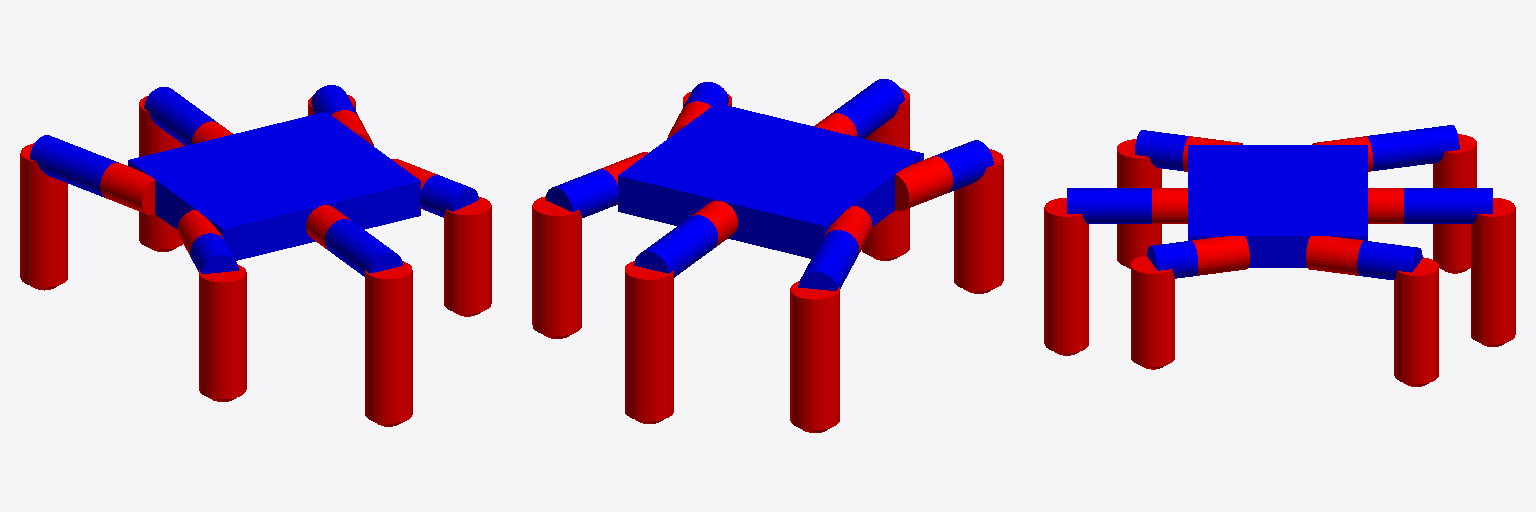
--- What the picture shows (computed from the rendered views, not written in the file) ---
Views: 3 orthographic renders of the robot side by side, from view 1: azimuth 30°, elevation 25°; view 2: azimuth 150°, elevation 25°; view 3: azimuth 270°, elevation 25°.
Model pexod with 19 links and 18 joints (18 revolute), rooted at base_link, posed all joints at 0.
Visible links, largest first — view 1: base_link, leg_4_3, leg_5_3, leg_0_3, leg_3_3, leg_0_2, leg_4_2, leg_1_3, leg_1_2, leg_0_1, leg_3_2, leg_5_2 (+5 smaller); view 2: base_link, leg_1_3, leg_0_3, leg_2_3, leg_5_3, leg_4_3, leg_1_2, leg_0_2, leg_2_2, leg_5_1, leg_4_2, leg_5_2 (+5 smaller); view 3: base_link, leg_4_3, leg_1_3, leg_2_3, leg_3_3, leg_0_3, leg_5_3, leg_1_2, leg_0_2, leg_4_2, leg_2_2, leg_3_1 (+5 smaller).
Boxes of the visible links, <box> form: base_link: <box>128,112,420,260</box>; leg_4_3: <box>365,261,412,426</box>; leg_5_3: <box>199,265,246,401</box>; leg_0_3: <box>20,143,67,290</box>; leg_3_3: <box>444,197,491,316</box>; leg_0_2: <box>30,135,118,197</box>; leg_4_2: <box>325,219,402,276</box>; leg_1_3: <box>139,96,184,251</box>; leg_1_2: <box>144,87,217,145</box>; leg_0_1: <box>100,163,154,214</box>; leg_3_2: <box>420,175,478,217</box>; leg_5_2: <box>190,233,238,273</box>; base_link: <box>618,103,923,258</box>; leg_1_3: <box>625,261,673,423</box>; leg_0_3: <box>790,281,839,432</box>; leg_2_3: <box>532,196,581,338</box>; leg_5_3: <box>954,149,1003,293</box>; leg_4_3: <box>862,88,909,260</box>; leg_1_2: <box>634,215,717,277</box>; leg_0_2: <box>798,230,858,290</box>; leg_2_2: <box>546,169,618,217</box>; leg_5_1: <box>895,156,952,210</box>; leg_4_2: <box>831,79,904,138</box>; leg_5_2: <box>932,140,993,192</box>; base_link: <box>1188,145,1367,267</box>; leg_4_3: <box>1044,198,1088,355</box>; leg_1_3: <box>1471,198,1515,346</box>; leg_2_3: <box>1394,257,1438,386</box>; leg_3_3: <box>1131,256,1174,369</box>; leg_0_3: <box>1433,134,1476,273</box>; leg_5_3: <box>1117,139,1161,268</box>; leg_1_2: <box>1404,188,1492,223</box>; leg_0_2: <box>1367,125,1459,170</box>; leg_4_2: <box>1067,188,1151,223</box>; leg_2_2: <box>1357,241,1422,279</box>; leg_3_1: <box>1192,236,1249,275</box>.
Bounding box of the posed robot: 0.374 × 0.5248 × 0.2003 m (x, y, z).
Geometry: primitives only (box / cylinder / sphere), no mesh files.

robot.urdf — pexod:
<?xml version="1.0" ?>
<!-- =================================================================================== -->
<!-- |    This document was autogenerated by xacro from pexod.xacro                    | -->
<!-- |    EDITING THIS FILE BY HAND IS NOT RECOMMENDED                                 | -->
<!-- =================================================================================== -->
<robot name="pexod" xmlns:xacro="http://www.ros.org/wiki/xacro">
  <!-- <xacro:include filename="$(find pexod_description)/urdf/pexod_control.xacro" /> -->
  <!-- MATERIALS -->
  <material name="Blue">
    <color rgba="0 0 1 1"/>
  </material>
  <material name="Red">
    <color rgba="1 0 0 1"/>
  </material>
  <material name="Green">
    <color rgba="0 1 0 1"/>
  </material>
  <material name="Yellow">
    <color rgba="1 1 0 1"/>
  </material>
  <material name="LightGrey">
    <color rgba="0.6 0.6 0.6 1.0"/>
  </material>
  <!-- END OF MATERIALS -->
  <!-- XACRO MACROS FOR VISUALS AND COLLISIONS -->
  <!-- END OF XACRO MACROS -->
  <!-- TORSO -->
  <link name="base_link">
    <visual>
      <origin rpy="0 0 0" xyz="0 0 0"/>
      <geometry>
        <box size="0.24 0.2 0.04"/>
      </geometry>
      <material name="Blue"/>
    </visual>
    <collision>
      <origin rpy="0 0 0" xyz="0 0 0"/>
      <geometry>
        <box size="0.24 0.2 0.04"/>
      </geometry>
    </collision>
    <inertial>
      <!-- CENTER OF MASS -->
      <origin rpy="0 0 0" xyz="0 0 0"/>
      <mass value="1.031"/>
      <!-- box inertia: 1/12*m(y^2+z^2), ... -->
      <inertia ixx="0.00357413333333" ixy="0" ixz="0" iyy="0.00508626666667" iyz="0" izz="0.00838546666667"/>
    </inertial>
  </link>
  <!-- XACRO MACRO FOR LEGS LINKS/JOINTS -->
  <!-- END OF LEG LINKS/JOINTS -->
  <joint name="body_leg_2" type="revolute">
    <parent link="base_link"/>
    <child link="leg_2_1"/>
    <limit effort="30.0" lower="-1.57079632679" upper="1.57079632679" velocity="7.0"/>
    <origin rpy="0 0 -0.3" xyz="0.11 0.04 0"/>
    <!-- <xacro:if value="${index == 5 or index == 4 or index == 3}">
                <axis xyz="0 0 1"/>
            </xacro:if>
            <xacro:if value="${index == 2 or index == 1 or index == 0}"> -->
    <axis xyz="0 0 1"/>
    <!-- </xacro:if> -->
    <dynamics damping="0.0"/>
  </joint>
  <link name="leg_2_1">
    <visual>
      <origin rpy="1.57079632679 0 0" xyz="0.01 0.03 0"/>
      <geometry>
        <cylinder length="0.06" radius="0.02"/>
      </geometry>
      <material name="Red"/>
    </visual>
    <collision>
      <origin rpy="1.57079632679 0 0" xyz="0.01 0.03 0"/>
      <geometry>
        <box size="0.02 0.02 0.06"/>
      </geometry>
    </collision>
    <inertial>
      <!-- CENTER OF MASS -->
      <origin rpy="1.57079632679 0 0" xyz="0.01 0.03 0"/>
      <mass value="0.02"/>
      <!-- box inertia: 1/12*m(y^2+z^2), ... -->
      <inertia ixx="6.66666666667e-06" ixy="0" ixz="0" iyy="6.66666666667e-06" iyz="0" izz="1.33333333333e-06"/>
    </inertial>
  </link>
  <joint name="leg_2_1_2" type="revolute">
    <parent link="leg_2_1"/>
    <child link="leg_2_2"/>
    <limit effort="30.0" lower="-0.78539816339" upper="0.78539816339" velocity="7.0"/>
    <origin rpy="0 0 0" xyz="0 0.06 0"/>
    <axis xyz="1 0 0"/>
    <dynamics damping="0.0"/>
  </joint>
  <link name="leg_2_2">
    <visual>
      <origin rpy="1.57079632679 0 0" xyz="0.01 0.0319367016303 0"/>
      <geometry>
        <cylinder length="0.0638734032605" radius="0.02"/>
      </geometry>
      <material name="Blue"/>
    </visual>
    <collision>
      <origin rpy="1.57079632679 0 0" xyz="0.01 0.0319367016303 0"/>
      <geometry>
        <box size="0.02 0.02 0.0638734032605"/>
      </geometry>
    </collision>
    <inertial>
      <!-- CENTER OF MASS -->
      <origin rpy="1.57079632679 0 0" xyz="0.01 0.0319367016303 0"/>
      <mass value="0.184"/>
      <!-- box inertia: 1/12*m(y^2+z^2), ... -->
      <inertia ixx="6.86904452092e-05" ixy="0" ixz="0" iyy="6.86904452092e-05" iyz="0" izz="1.22666666667e-05"/>
    </inertial>
  </link>
  <joint name="leg_2_2_3" type="revolute">
    <parent link="leg_2_2"/>
    <child link="leg_2_3"/>
    <limit effort="30.0" lower="-0.78539816339" upper="0.78539816339" velocity="7.0"/>
    <origin rpy="-1.57079632679 0 0" xyz="0 0.0638734032605 0"/>
    <axis xyz="-1 0 0"/>
    <dynamics damping="0.0"/>
  </joint>
  <link name="leg_2_3">
    <visual>
      <origin rpy="1.57079632679 0 0" xyz="0.0125 0.066725228067 0"/>
      <geometry>
        <cylinder length="0.133450456134" radius="0.025"/>
      </geometry>
      <material name="Red"/>
    </visual>
    <visual>
      <origin rpy="1.57079632679 0 0" xyz="0.0125 0.120950456134 0"/>
      <geometry>
        <sphere radius="0.025"/>
      </geometry>
      <material name="Red"/>
    </visual>
    <collision>
      <origin rpy="1.57079632679 0 0" xyz="0.0125 0.066725228067 0"/>
      <geometry>
        <box size="0.025 0.025 0.133450456134"/>
      </geometry>
    </collision>
    <collision>
      <origin rpy="1.57079632679 0 0" xyz="0.0125 0.120950456134 0"/>
      <geometry>
        <sphere radius="0.025"/>
      </geometry>
      <material name="Red"/>
    </collision>
    <inertial>
      <!-- CENTER OF MASS -->
      <origin rpy="1.57079632679 0 0" xyz="0.0125 0.066725228067 0"/>
      <mass value="0.04"/>
      <!-- box inertia: 1/12*m(y^2+z^2), ... -->
      <inertia ixx="6.14467474746e-05" ixy="0" ixz="0" iyy="6.14467474746e-05" iyz="0" izz="4.16666666667e-06"/>
    </inertial>
  </link>
  <joint name="body_leg_3" type="revolute">
    <parent link="base_link"/>
    <child link="leg_3_1"/>
    <limit effort="30.0" lower="-1.57079632679" upper="1.57079632679" velocity="7.0"/>
    <origin rpy="0 0 0.3" xyz="0.11 -0.04 0"/>
    <!-- <xacro:if value="${index == 5 or index == 4 or index == 3}">
                <axis xyz="0 0 1"/>
            </xacro:if>
            <xacro:if value="${index == 2 or index == 1 or index == 0}"> -->
    <axis xyz="0 0 1"/>
    <!-- </xacro:if> -->
    <dynamics damping="0.0"/>
  </joint>
  <link name="leg_3_1">
    <visual>
      <origin rpy="1.57079632679 0 0" xyz="0.01 -0.03 0"/>
      <geometry>
        <cylinder length="0.06" radius="0.02"/>
      </geometry>
      <material name="Red"/>
    </visual>
    <collision>
      <origin rpy="1.57079632679 0 0" xyz="0.01 -0.03 0"/>
      <geometry>
        <box size="0.02 0.02 0.06"/>
      </geometry>
    </collision>
    <inertial>
      <!-- CENTER OF MASS -->
      <origin rpy="1.57079632679 0 0" xyz="0.01 -0.03 0"/>
      <mass value="0.02"/>
      <!-- box inertia: 1/12*m(y^2+z^2), ... -->
      <inertia ixx="6.66666666667e-06" ixy="0" ixz="0" iyy="6.66666666667e-06" iyz="0" izz="1.33333333333e-06"/>
    </inertial>
  </link>
  <joint name="leg_3_1_2" type="revolute">
    <parent link="leg_3_1"/>
    <child link="leg_3_2"/>
    <limit effort="30.0" lower="-0.78539816339" upper="0.78539816339" velocity="7.0"/>
    <origin rpy="0 0 0" xyz="0 -0.06 0"/>
    <axis xyz="-1 0 0"/>
    <dynamics damping="0.0"/>
  </joint>
  <link name="leg_3_2">
    <visual>
      <origin rpy="1.57079632679 0 0" xyz="0.01 -0.0237564530246 0"/>
      <geometry>
        <cylinder length="0.0475129060491" radius="0.02"/>
      </geometry>
      <material name="Blue"/>
    </visual>
    <collision>
      <origin rpy="1.57079632679 0 0" xyz="0.01 -0.0237564530246 0"/>
      <geometry>
        <box size="0.02 0.02 0.0475129060491"/>
      </geometry>
    </collision>
    <inertial>
      <!-- CENTER OF MASS -->
      <origin rpy="1.57079632679 0 0" xyz="0.01 -0.0237564530246 0"/>
      <mass value="0.184"/>
      <!-- box inertia: 1/12*m(y^2+z^2), ... -->
      <inertia ixx="4.07479690322e-05" ixy="0" ixz="0" iyy="4.07479690322e-05" iyz="0" izz="1.22666666667e-05"/>
    </inertial>
  </link>
  <joint name="leg_3_2_3" type="revolute">
    <parent link="leg_3_2"/>
    <child link="leg_3_3"/>
    <limit effort="30.0" lower="-0.78539816339" upper="0.78539816339" velocity="7.0"/>
    <origin rpy="1.57079632679 0 0" xyz="0 -0.0475129060491 0"/>
    <axis xyz="1 0 0"/>
    <dynamics damping="0.0"/>
  </joint>
  <link name="leg_3_3">
    <visual>
      <origin rpy="1.57079632679 0 0" xyz="0.0125 -0.0570386019265 0"/>
      <geometry>
        <cylinder length="0.114077203853" radius="0.025"/>
      </geometry>
      <material name="Red"/>
    </visual>
    <visual>
      <origin rpy="1.57079632679 0 0" xyz="0.0125 -0.101577203853 0"/>
      <geometry>
        <sphere radius="0.025"/>
      </geometry>
      <material name="Red"/>
    </visual>
    <collision>
      <origin rpy="1.57079632679 0 0" xyz="0.0125 -0.0570386019265 0"/>
      <geometry>
        <box size="0.025 0.025 0.114077203853"/>
      </geometry>
    </collision>
    <collision>
      <origin rpy="1.57079632679 0 0" xyz="0.0125 -0.101577203853 0"/>
      <geometry>
        <sphere radius="0.025"/>
      </geometry>
      <material name="Red"/>
    </collision>
    <inertial>
      <!-- CENTER OF MASS -->
      <origin rpy="1.57079632679 0 0" xyz="0.0125 -0.0570386019265 0"/>
      <mass value="0.04"/>
      <!-- box inertia: 1/12*m(y^2+z^2), ... -->
      <inertia ixx="4.54620281297e-05" ixy="0" ixz="0" iyy="4.54620281297e-05" iyz="0" izz="4.16666666667e-06"/>
    </inertial>
  </link>
  <joint name="body_leg_0" type="revolute">
    <parent link="base_link"/>
    <child link="leg_0_1"/>
    <limit effort="30.0" lower="-1.57079632679" upper="1.57079632679" velocity="7.0"/>
    <origin rpy="0 0 0.3" xyz="-0.13 0.04 0"/>
    <!-- <xacro:if value="${index == 5 or index == 4 or index == 3}">
                <axis xyz="0 0 1"/>
            </xacro:if>
            <xacro:if value="${index == 2 or index == 1 or index == 0}"> -->
    <axis xyz="0 0 1"/>
    <!-- </xacro:if> -->
    <dynamics damping="0.0"/>
  </joint>
  <link name="leg_0_1">
    <visual>
      <origin rpy="1.57079632679 0 0" xyz="0.01 0.03 0"/>
      <geometry>
        <cylinder length="0.06" radius="0.02"/>
      </geometry>
      <material name="Red"/>
    </visual>
    <collision>
      <origin rpy="1.57079632679 0 0" xyz="0.01 0.03 0"/>
      <geometry>
        <box size="0.02 0.02 0.06"/>
      </geometry>
    </collision>
    <inertial>
      <!-- CENTER OF MASS -->
      <origin rpy="1.57079632679 0 0" xyz="0.01 0.03 0"/>
      <mass value="0.02"/>
      <!-- box inertia: 1/12*m(y^2+z^2), ... -->
      <inertia ixx="6.66666666667e-06" ixy="0" ixz="0" iyy="6.66666666667e-06" iyz="0" izz="1.33333333333e-06"/>
    </inertial>
  </link>
  <joint name="leg_0_1_2" type="revolute">
    <parent link="leg_0_1"/>
    <child link="leg_0_2"/>
    <limit effort="30.0" lower="-0.78539816339" upper="0.78539816339" velocity="7.0"/>
    <origin rpy="0 0 0" xyz="0 0.06 0"/>
    <axis xyz="1 0 0"/>
    <dynamics damping="0.0"/>
  </joint>
  <link name="leg_0_2">
    <visual>
      <origin rpy="1.57079632679 0 0" xyz="0.01 0.0504954762555 0"/>
      <geometry>
        <cylinder length="0.100990952511" radius="0.02"/>
      </geometry>
      <material name="Blue"/>
    </visual>
    <collision>
      <origin rpy="1.57079632679 0 0" xyz="0.01 0.0504954762555 0"/>
      <geometry>
        <box size="0.02 0.02 0.100990952511"/>
      </geometry>
    </collision>
    <inertial>
      <!-- CENTER OF MASS -->
      <origin rpy="1.57079632679 0 0" xyz="0.01 0.0504954762555 0"/>
      <mass value="0.184"/>
      <!-- box inertia: 1/12*m(y^2+z^2), ... -->
      <inertia ixx="0.000162520644833" ixy="0" ixz="0" iyy="0.000162520644833" iyz="0" izz="1.22666666667e-05"/>
    </inertial>
  </link>
  <joint name="leg_0_2_3" type="revolute">
    <parent link="leg_0_2"/>
    <child link="leg_0_3"/>
    <limit effort="30.0" lower="-0.78539816339" upper="0.78539816339" velocity="7.0"/>
    <origin rpy="-1.57079632679 0 0" xyz="0 0.100990952511 0"/>
    <axis xyz="-1 0 0"/>
    <dynamics damping="0.0"/>
  </joint>
  <link name="leg_0_3">
    <visual>
      <origin rpy="1.57079632679 0 0" xyz="0.0125 0.0725356002095 0"/>
      <geometry>
        <cylinder length="0.145071200419" radius="0.025"/>
      </geometry>
      <material name="Red"/>
    </visual>
    <visual>
      <origin rpy="1.57079632679 0 0" xyz="0.0125 0.132571200419 0"/>
      <geometry>
        <sphere radius="0.025"/>
      </geometry>
      <material name="Red"/>
    </visual>
    <collision>
      <origin rpy="1.57079632679 0 0" xyz="0.0125 0.0725356002095 0"/>
      <geometry>
        <box size="0.025 0.025 0.145071200419"/>
      </geometry>
    </collision>
    <collision>
      <origin rpy="1.57079632679 0 0" xyz="0.0125 0.132571200419 0"/>
      <geometry>
        <sphere radius="0.025"/>
      </geometry>
      <material name="Red"/>
    </collision>
    <inertial>
      <!-- CENTER OF MASS -->
      <origin rpy="1.57079632679 0 0" xyz="0.0125 0.0725356002095 0"/>
      <mass value="0.04"/>
      <!-- box inertia: 1/12*m(y^2+z^2), ... -->
      <inertia ixx="7.22355106367e-05" ixy="0" ixz="0" iyy="7.22355106367e-05" iyz="0" izz="4.16666666667e-06"/>
    </inertial>
  </link>
  <joint name="body_leg_5" type="revolute">
    <parent link="base_link"/>
    <child link="leg_5_1"/>
    <limit effort="30.0" lower="-1.57079632679" upper="1.57079632679" velocity="7.0"/>
    <origin rpy="0 0 -0.3" xyz="-0.13 -0.04 0"/>
    <!-- <xacro:if value="${index == 5 or index == 4 or index == 3}">
                <axis xyz="0 0 1"/>
            </xacro:if>
            <xacro:if value="${index == 2 or index == 1 or index == 0}"> -->
    <axis xyz="0 0 1"/>
    <!-- </xacro:if> -->
    <dynamics damping="0.0"/>
  </joint>
  <link name="leg_5_1">
    <visual>
      <origin rpy="1.57079632679 0 0" xyz="0.01 -0.03 0"/>
      <geometry>
        <cylinder length="0.06" radius="0.02"/>
      </geometry>
      <material name="Red"/>
    </visual>
    <collision>
      <origin rpy="1.57079632679 0 0" xyz="0.01 -0.03 0"/>
      <geometry>
        <box size="0.02 0.02 0.06"/>
      </geometry>
    </collision>
    <inertial>
      <!-- CENTER OF MASS -->
      <origin rpy="1.57079632679 0 0" xyz="0.01 -0.03 0"/>
      <mass value="0.02"/>
      <!-- box inertia: 1/12*m(y^2+z^2), ... -->
      <inertia ixx="6.66666666667e-06" ixy="0" ixz="0" iyy="6.66666666667e-06" iyz="0" izz="1.33333333333e-06"/>
    </inertial>
  </link>
  <joint name="leg_5_1_2" type="revolute">
    <parent link="leg_5_1"/>
    <child link="leg_5_2"/>
    <limit effort="30.0" lower="-0.78539816339" upper="0.78539816339" velocity="7.0"/>
    <origin rpy="0 0 0" xyz="0 -0.06 0"/>
    <axis xyz="-1 0 0"/>
    <dynamics damping="0.0"/>
  </joint>
  <link name="leg_5_2">
    <visual>
      <origin rpy="1.57079632679 0 0" xyz="0.01 -0.027989640876 0"/>
      <geometry>
        <cylinder length="0.055979281752" radius="0.02"/>
      </geometry>
      <material name="Blue"/>
    </visual>
    <collision>
      <origin rpy="1.57079632679 0 0" xyz="0.01 -0.027989640876 0"/>
      <geometry>
        <box size="0.02 0.02 0.055979281752"/>
      </geometry>
    </collision>
    <inertial>
      <!-- CENTER OF MASS -->
      <origin rpy="1.57079632679 0 0" xyz="0.01 -0.027989640876 0"/>
      <mass value="0.184"/>
      <!-- box inertia: 1/12*m(y^2+z^2), ... -->
      <inertia ixx="5.41830931105e-05" ixy="0" ixz="0" iyy="5.41830931105e-05" iyz="0" izz="1.22666666667e-05"/>
    </inertial>
  </link>
  <joint name="leg_5_2_3" type="revolute">
    <parent link="leg_5_2"/>
    <child link="leg_5_3"/>
    <limit effort="30.0" lower="-0.78539816339" upper="0.78539816339" velocity="7.0"/>
    <origin rpy="1.57079632679 0 0" xyz="0 -0.055979281752 0"/>
    <axis xyz="1 0 0"/>
    <dynamics damping="0.0"/>
  </joint>
  <link name="leg_5_3">
    <visual>
      <origin rpy="1.57079632679 0 0" xyz="0.0125 -0.0678341010735 0"/>
      <geometry>
        <cylinder length="0.135668202147" radius="0.025"/>
      </geometry>
      <material name="Red"/>
    </visual>
    <visual>
      <origin rpy="1.57079632679 0 0" xyz="0.0125 -0.123168202147 0"/>
      <geometry>
        <sphere radius="0.025"/>
      </geometry>
      <material name="Red"/>
    </visual>
    <collision>
      <origin rpy="1.57079632679 0 0" xyz="0.0125 -0.0678341010735 0"/>
      <geometry>
        <box size="0.025 0.025 0.135668202147"/>
      </geometry>
    </collision>
    <collision>
      <origin rpy="1.57079632679 0 0" xyz="0.0125 -0.123168202147 0"/>
      <geometry>
        <sphere radius="0.025"/>
      </geometry>
      <material name="Red"/>
    </collision>
    <inertial>
      <!-- CENTER OF MASS -->
      <origin rpy="1.57079632679 0 0" xyz="0.0125 -0.0678341010735 0"/>
      <mass value="0.04"/>
      <!-- box inertia: 1/12*m(y^2+z^2), ... -->
      <inertia ixx="6.34362035793e-05" ixy="0" ixz="0" iyy="6.34362035793e-05" iyz="0" izz="4.16666666667e-06"/>
    </inertial>
  </link>
  <joint name="body_leg_1" type="revolute">
    <parent link="base_link"/>
    <child link="leg_1_1"/>
    <limit effort="30.0" lower="-1.57079632679" upper="1.57079632679" velocity="7.0"/>
    <origin rpy="0 0 0" xyz="-0.01 0.08 0"/>
    <!-- <xacro:if value="${index == 5 or index == 4 or index == 3}">
                <axis xyz="0 0 1"/>
            </xacro:if>
            <xacro:if value="${index == 2 or index == 1 or index == 0}"> -->
    <axis xyz="0 0 1"/>
    <!-- </xacro:if> -->
    <dynamics damping="0.0"/>
  </joint>
  <link name="leg_1_1">
    <visual>
      <origin rpy="1.57079632679 0 0" xyz="0.01 0.03 0"/>
      <geometry>
        <cylinder length="0.06" radius="0.02"/>
      </geometry>
      <material name="Red"/>
    </visual>
    <collision>
      <origin rpy="1.57079632679 0 0" xyz="0.01 0.03 0"/>
      <geometry>
        <box size="0.02 0.02 0.06"/>
      </geometry>
    </collision>
    <inertial>
      <!-- CENTER OF MASS -->
      <origin rpy="1.57079632679 0 0" xyz="0.01 0.03 0"/>
      <mass value="0.02"/>
      <!-- box inertia: 1/12*m(y^2+z^2), ... -->
      <inertia ixx="6.66666666667e-06" ixy="0" ixz="0" iyy="6.66666666667e-06" iyz="0" izz="1.33333333333e-06"/>
    </inertial>
  </link>
  <joint name="leg_1_1_2" type="revolute">
    <parent link="leg_1_1"/>
    <child link="leg_1_2"/>
    <limit effort="30.0" lower="-0.78539816339" upper="0.78539816339" velocity="7.0"/>
    <origin rpy="0 0 0" xyz="0 0.06 0"/>
    <axis xyz="1 0 0"/>
    <dynamics damping="0.0"/>
  </joint>
  <link name="leg_1_2">
    <visual>
      <origin rpy="1.57079632679 0 0" xyz="0.01 0.0498931399086 0"/>
      <geometry>
        <cylinder length="0.0997862798173" radius="0.02"/>
      </geometry>
      <material name="Blue"/>
    </visual>
    <collision>
      <origin rpy="1.57079632679 0 0" xyz="0.01 0.0498931399086 0"/>
      <geometry>
        <box size="0.02 0.02 0.0997862798173"/>
      </geometry>
    </collision>
    <inertial>
      <!-- CENTER OF MASS -->
      <origin rpy="1.57079632679 0 0" xyz="0.01 0.0498931399086 0"/>
      <mass value="0.184"/>
      <!-- box inertia: 1/12*m(y^2+z^2), ... -->
      <inertia ixx="0.000158811958477" ixy="0" ixz="0" iyy="0.000158811958477" iyz="0" izz="1.22666666667e-05"/>
    </inertial>
  </link>
  <joint name="leg_1_2_3" type="revolute">
    <parent link="leg_1_2"/>
    <child link="leg_1_3"/>
    <limit effort="30.0" lower="-0.78539816339" upper="0.78539816339" velocity="7.0"/>
    <origin rpy="-1.57079632679 0 0" xyz="0 0.0997862798173 0"/>
    <axis xyz="-1 0 0"/>
    <dynamics damping="0.0"/>
  </joint>
  <link name="leg_1_3">
    <visual>
      <origin rpy="1.57079632679 0 0" xyz="0.0125 0.078572905853 0"/>
      <geometry>
        <cylinder length="0.157145811706" radius="0.025"/>
      </geometry>
      <material name="Red"/>
    </visual>
    <visual>
      <origin rpy="1.57079632679 0 0" xyz="0.0125 0.144645811706 0"/>
      <geometry>
        <sphere radius="0.025"/>
      </geometry>
      <material name="Red"/>
    </visual>
    <collision>
      <origin rpy="1.57079632679 0 0" xyz="0.0125 0.078572905853 0"/>
      <geometry>
        <box size="0.025 0.025 0.157145811706"/>
      </geometry>
    </collision>
    <collision>
      <origin rpy="1.57079632679 0 0" xyz="0.0125 0.144645811706 0"/>
      <geometry>
        <sphere radius="0.025"/>
      </geometry>
      <material name="Red"/>
    </collision>
    <inertial>
      <!-- CENTER OF MASS -->
      <origin rpy="1.57079632679 0 0" xyz="0.0125 0.078572905853 0"/>
      <mass value="0.04"/>
      <!-- box inertia: 1/12*m(y^2+z^2), ... -->
      <inertia ixx="8.43993537891e-05" ixy="0" ixz="0" iyy="8.43993537891e-05" iyz="0" izz="4.16666666667e-06"/>
    </inertial>
  </link>
  <joint name="body_leg_4" type="revolute">
    <parent link="base_link"/>
    <child link="leg_4_1"/>
    <limit effort="30.0" lower="-1.57079632679" upper="1.57079632679" velocity="7.0"/>
    <origin rpy="0 0 0" xyz="-0.01 -0.08 0"/>
    <!-- <xacro:if value="${index == 5 or index == 4 or index == 3}">
                <axis xyz="0 0 1"/>
            </xacro:if>
            <xacro:if value="${index == 2 or index == 1 or index == 0}"> -->
    <axis xyz="0 0 1"/>
    <!-- </xacro:if> -->
    <dynamics damping="0.0"/>
  </joint>
  <link name="leg_4_1">
    <visual>
      <origin rpy="1.57079632679 0 0" xyz="0.01 -0.03 0"/>
      <geometry>
        <cylinder length="0.06" radius="0.02"/>
      </geometry>
      <material name="Red"/>
    </visual>
    <collision>
      <origin rpy="1.57079632679 0 0" xyz="0.01 -0.03 0"/>
      <geometry>
        <box size="0.02 0.02 0.06"/>
      </geometry>
    </collision>
    <inertial>
      <!-- CENTER OF MASS -->
      <origin rpy="1.57079632679 0 0" xyz="0.01 -0.03 0"/>
      <mass value="0.02"/>
      <!-- box inertia: 1/12*m(y^2+z^2), ... -->
      <inertia ixx="6.66666666667e-06" ixy="0" ixz="0" iyy="6.66666666667e-06" iyz="0" izz="1.33333333333e-06"/>
    </inertial>
  </link>
  <joint name="leg_4_1_2" type="revolute">
    <parent link="leg_4_1"/>
    <child link="leg_4_2"/>
    <limit effort="30.0" lower="-0.78539816339" upper="0.78539816339" velocity="7.0"/>
    <origin rpy="0 0 0" xyz="0 -0.06 0"/>
    <axis xyz="-1 0 0"/>
    <dynamics damping="0.0"/>
  </joint>
  <link name="leg_4_2">
    <visual>
      <origin rpy="1.57079632679 0 0" xyz="0.01 -0.0475263310458 0"/>
      <geometry>
        <cylinder length="0.0950526620916" radius="0.02"/>
      </geometry>
      <material name="Blue"/>
    </visual>
    <collision>
      <origin rpy="1.57079632679 0 0" xyz="0.01 -0.0475263310458 0"/>
      <geometry>
        <box size="0.02 0.02 0.0950526620916"/>
      </geometry>
    </collision>
    <inertial>
      <!-- CENTER OF MASS -->
      <origin rpy="1.57079632679 0 0" xyz="0.01 -0.0475263310458 0"/>
      <mass value="0.184"/>
      <!-- box inertia: 1/12*m(y^2+z^2), ... -->
      <inertia ixx="0.000144670131417" ixy="0" ixz="0" iyy="0.000144670131417" iyz="0" izz="1.22666666667e-05"/>
    </inertial>
  </link>
  <joint name="leg_4_2_3" type="revolute">
    <parent link="leg_4_2"/>
    <child link="leg_4_3"/>
    <limit effort="30.0" lower="-0.78539816339" upper="0.78539816339" velocity="7.0"/>
    <origin rpy="1.57079632679 0 0" xyz="0 -0.0950526620916 0"/>
    <axis xyz="1 0 0"/>
    <dynamics damping="0.0"/>
  </joint>
  <link name="leg_4_3">
    <visual>
      <origin rpy="1.57079632679 0 0" xyz="0.0125 -0.083876290582 0"/>
      <geometry>
        <cylinder length="0.167752581164" radius="0.025"/>
      </geometry>
      <material name="Red"/>
    </visual>
    <visual>
      <origin rpy="1.57079632679 0 0" xyz="0.0125 -0.155252581164 0"/>
      <geometry>
        <sphere radius="0.025"/>
      </geometry>
      <material name="Red"/>
    </visual>
    <collision>
      <origin rpy="1.57079632679 0 0" xyz="0.0125 -0.083876290582 0"/>
      <geometry>
        <box size="0.025 0.025 0.167752581164"/>
      </geometry>
    </collision>
    <collision>
      <origin rpy="1.57079632679 0 0" xyz="0.0125 -0.155252581164 0"/>
      <geometry>
        <sphere radius="0.025"/>
      </geometry>
      <material name="Red"/>
    </collision>
    <inertial>
      <!-- CENTER OF MASS -->
      <origin rpy="1.57079632679 0 0" xyz="0.0125 -0.083876290582 0"/>
      <mass value="0.04"/>
      <!-- box inertia: 1/12*m(y^2+z^2), ... -->
      <inertia ixx="9.58864282906e-05" ixy="0" ixz="0" iyy="9.58864282906e-05" iyz="0" izz="4.16666666667e-06"/>
    </inertial>
  </link>
  <!-- END OF LEG LINKS/JOINTS -->
</robot>
